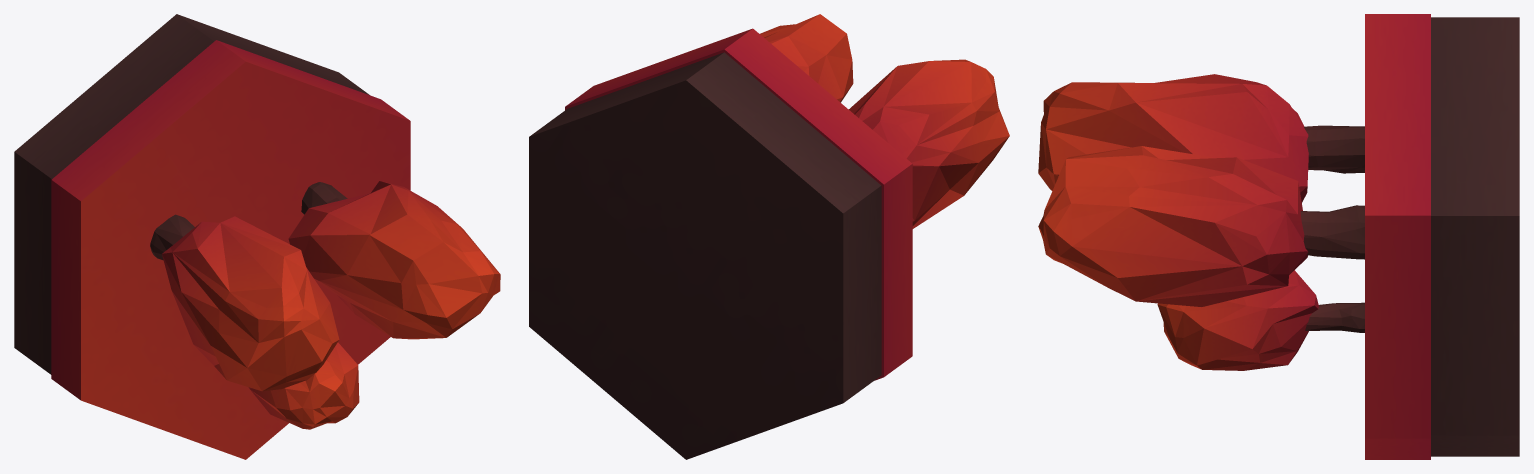
Rendered from LAUBWALD_S_BURN.fbx.
3 renders of one model, left to right at view 1: azimuth 30°, elevation 25°; view 2: azimuth 150°, elevation 25°; view 3: azimuth 270°, elevation 25°, orthographic. The views are drawn at different scales.
Visible parts, largest first — view 1: LAUBWALD_S_BURN; view 2: LAUBWALD_S_BURN; view 3: LAUBWALD_S_BURN.
Boxes of the visible parts, x1,y1,x2,y2 form: LAUBWALD_S_BURN: (14, 14, 500, 459); LAUBWALD_S_BURN: (529, 14, 1009, 459); LAUBWALD_S_BURN: (1038, 14, 1519, 459).
Bounding box in the file's own units: 172 × 199 × 194.
